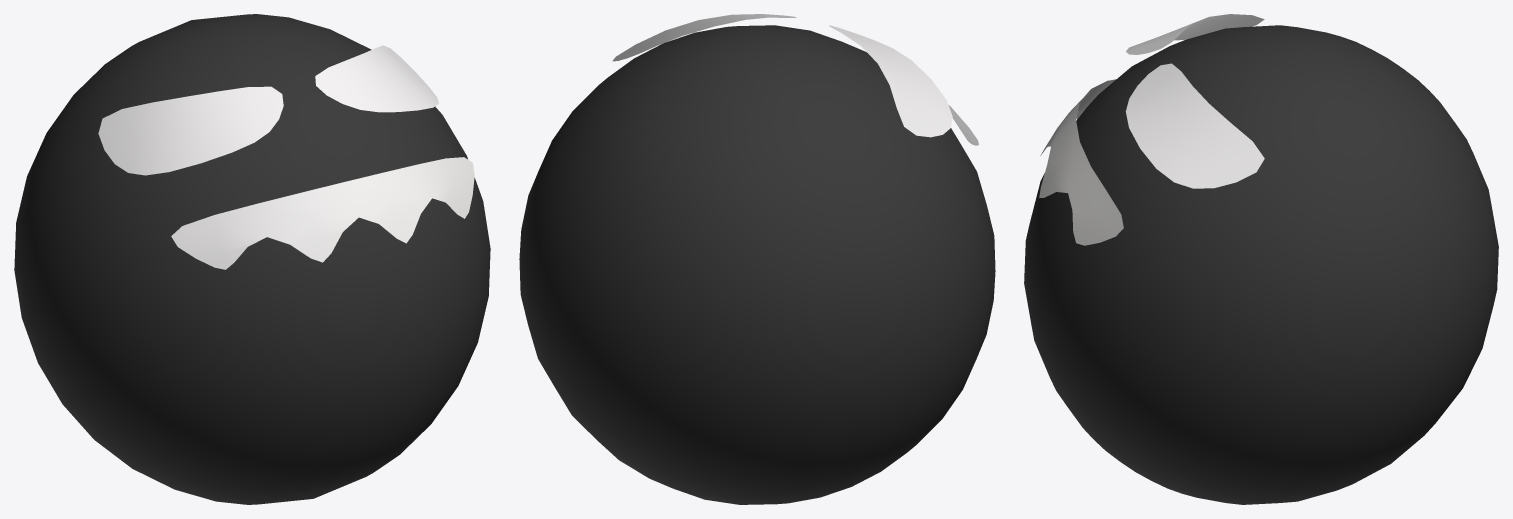
The model's file is Souls  1.fbx.
The picture shows the model from 3 angles, left to right: view 1: azimuth 30°, elevation 25°; view 2: azimuth 150°, elevation 25°; view 3: azimuth 270°, elevation 25°; orthographic projection.
Parts seen in each view (by area): view 1: Soul 01; view 2: Soul 01; view 3: Soul 01.
Boxes of the visible parts, x1,y1,x2,y2 form: Soul 01: (14,14,490,504); Soul 01: (519,14,995,504); Soul 01: (1024,14,1498,504).
Bounding box in the file's own units: 3.94 × 4.01 × 3.96.
